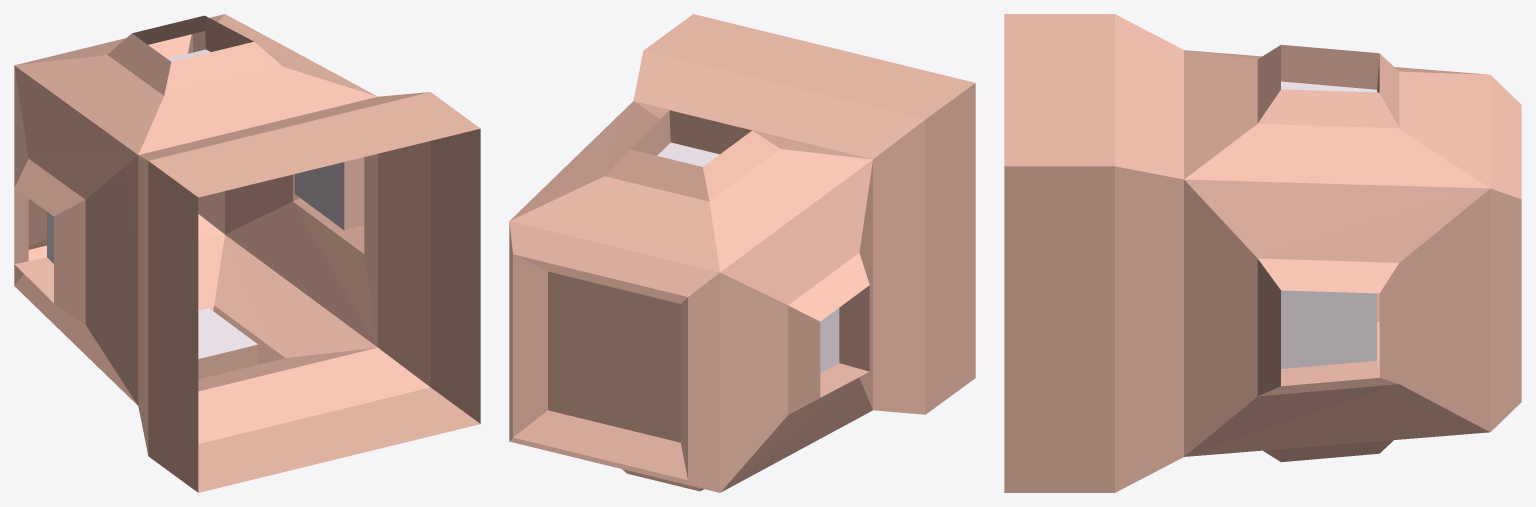
3 views of the same model, side by side, from view 1: azimuth 30°, elevation 25°; view 2: azimuth 150°, elevation 25°; view 3: azimuth 270°, elevation 25° (orthographic). The views are drawn at different scales.
Visible parts, largest first — view 1: Object03; view 2: Object03; view 3: Object03.
Part boxes in pixels (bbox=[...]): Object03: bbox=[14, 14, 480, 492]; Object03: bbox=[509, 14, 975, 492]; Object03: bbox=[1004, 14, 1521, 492].
Size of the model in its own units: 22727 by 22727 by 28716.
